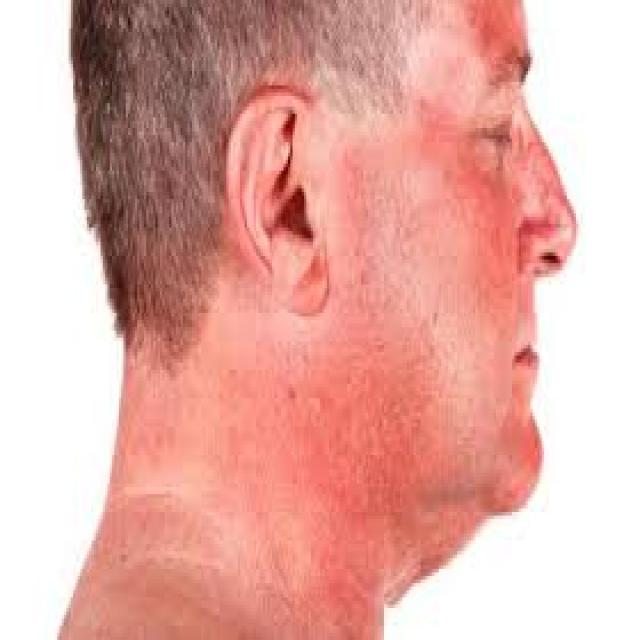Acanthosis Nigricans: (84, 273, 428, 640)
